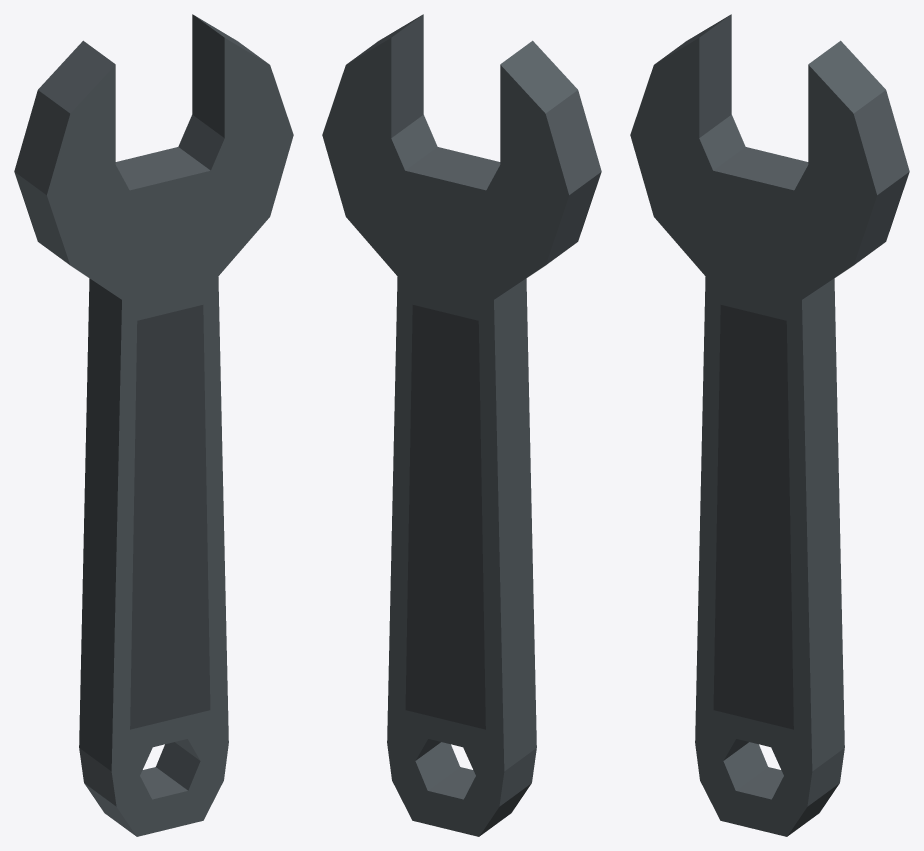
File: SM_Icon_Repair_01.fbx
The picture shows the model from 3 angles, left to right: view 1: azimuth 30°, elevation 25°; view 2: azimuth 150°, elevation 25°; view 3: azimuth 330°, elevation 25°; orthographic projection.
Visible parts, largest first — view 1: SM_Icon_Repair_01; view 2: SM_Icon_Repair_01; view 3: SM_Icon_Repair_01.
Boxes of the visible parts, box(x1,y1,x2,y2) form: SM_Icon_Repair_01: box(14, 14, 293, 836); SM_Icon_Repair_01: box(322, 14, 601, 836); SM_Icon_Repair_01: box(630, 14, 909, 836).
Size of the model in its own units: 24.8 by 74.65 by 5.66.
